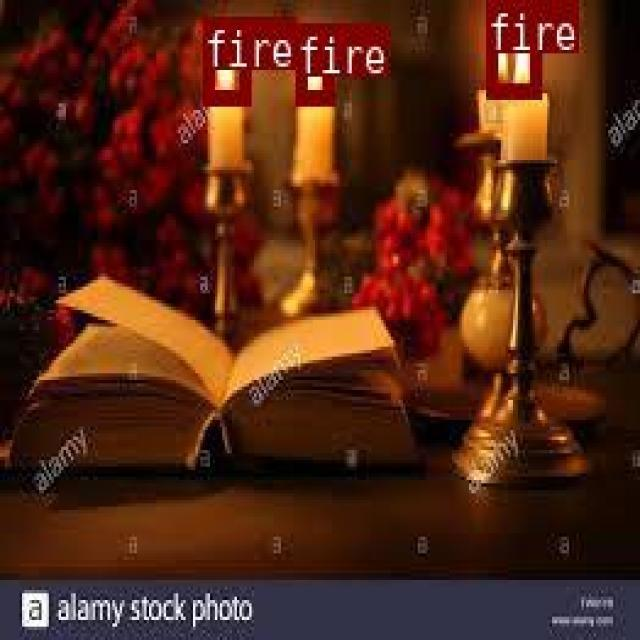fire: (484, 0, 540, 93), (202, 17, 249, 101), (294, 21, 332, 102)
